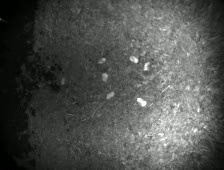corn: (134, 95, 148, 109), (128, 53, 141, 66), (141, 59, 153, 73), (95, 55, 108, 67), (99, 70, 110, 84), (104, 89, 116, 101), (58, 76, 66, 86)
